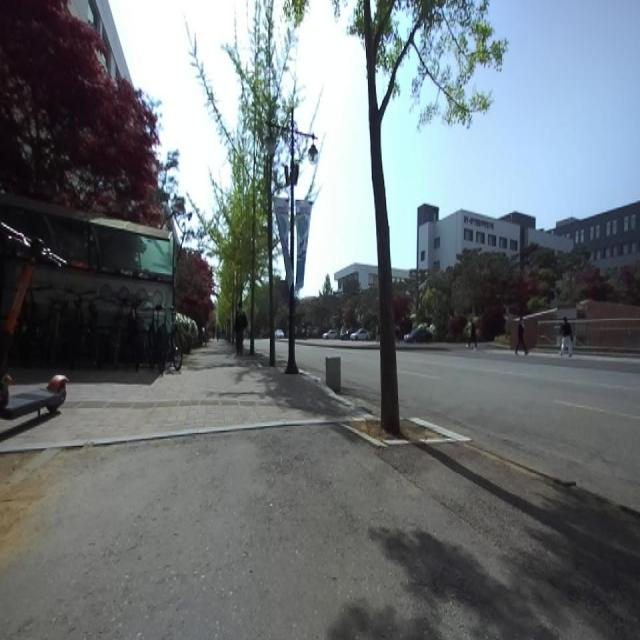sidewalk: (0, 425, 640, 639), (0, 340, 377, 453), (399, 404, 640, 515), (343, 390, 380, 416)
